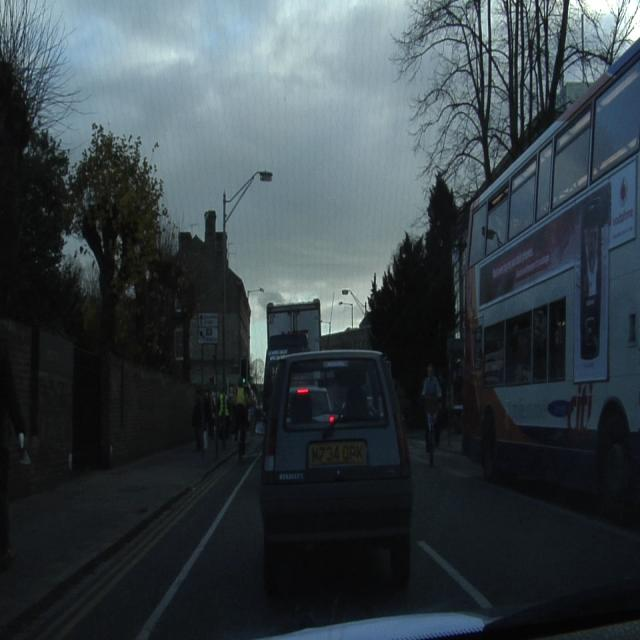Car: (258, 343, 424, 605)
Road: (151, 452, 640, 638), (25, 438, 258, 638)
Truck_Bus: (464, 40, 640, 518)
